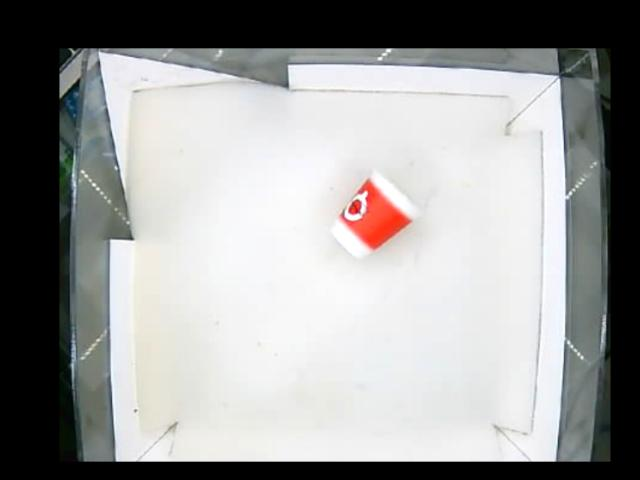Cup: (329, 170, 421, 259)
